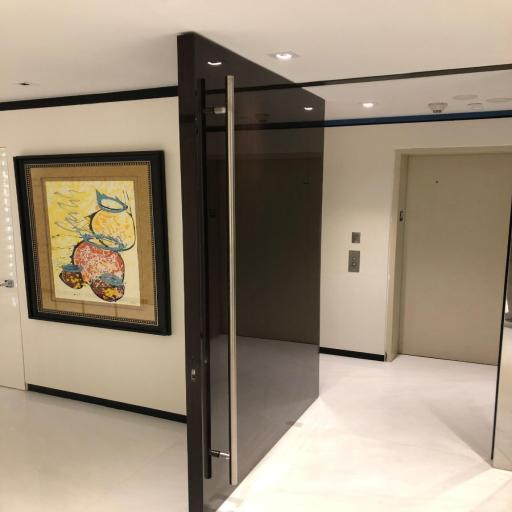Door: (176, 33, 325, 512), (397, 152, 512, 364), (0, 148, 25, 390)
